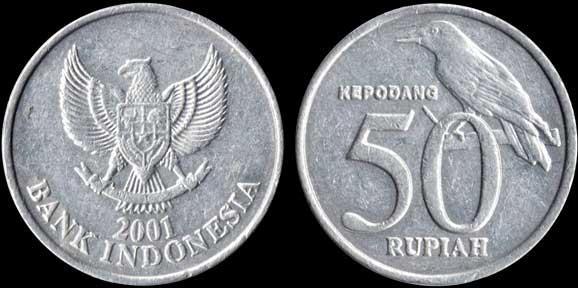coin_50_1999: (0, 0, 284, 288), (295, 0, 578, 288)
